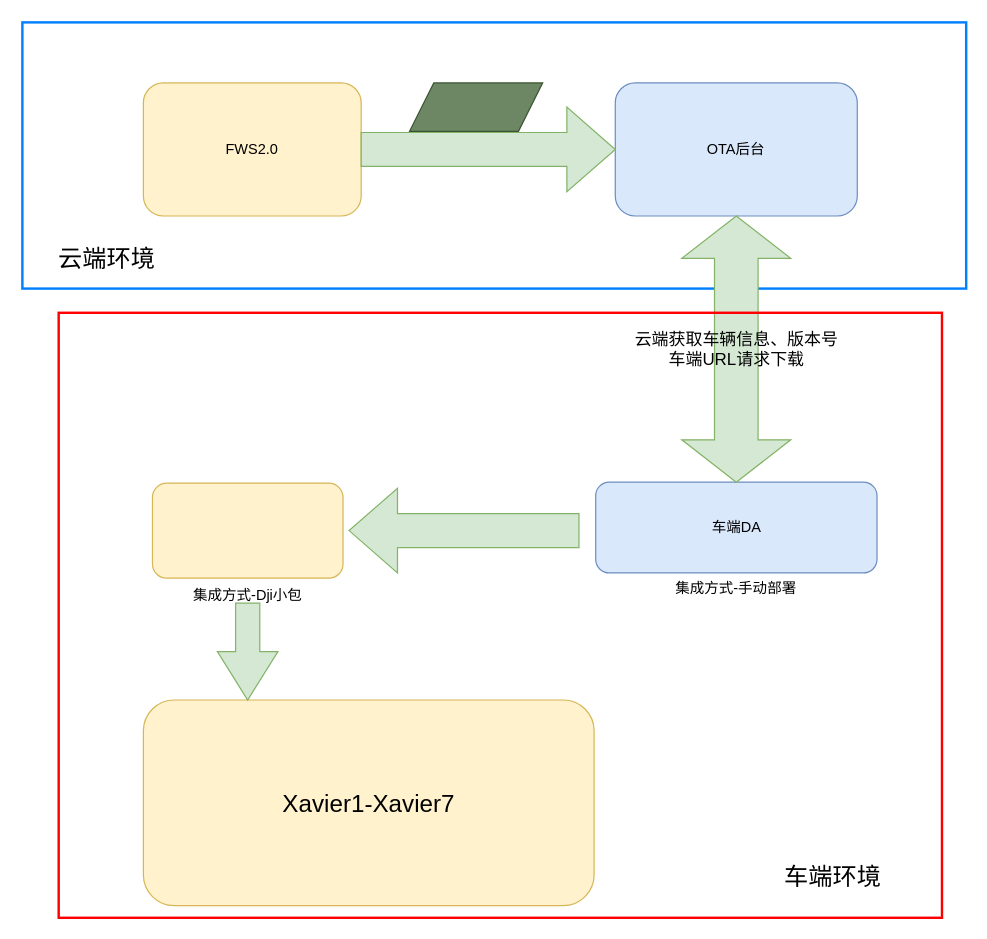
Some shapes in this 987 by 939 pixel diagram are drawn without their labels. The centre of each missing label's shape, as x and y in pixels:
"ota-agent" belongs at pixel 247 530.
"整包数据流转" belongs at pixel 475 106.
